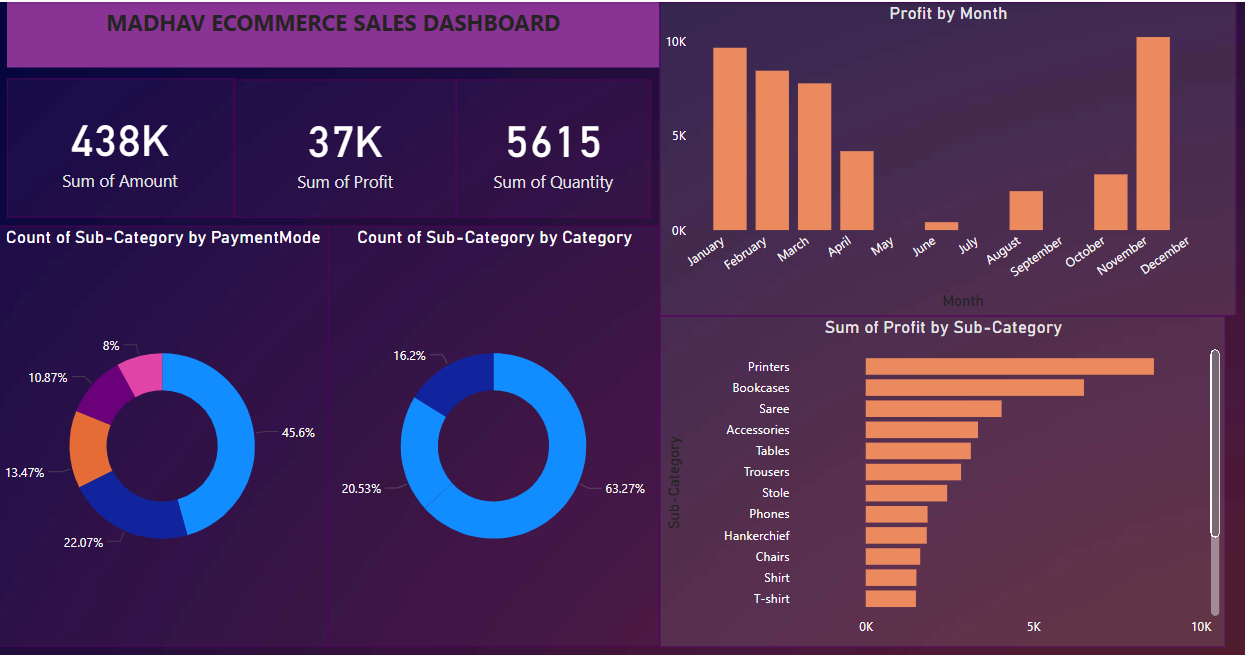

What the dashboard file says about the page in this screenshot:
{"tool":"powerbi","page":{"name":"Page 1","canvas":[1280,720],"ordinal":0},"visuals":[{"type":"textbox","box":[9.6,0,629.8,63.1],"z":0},{"type":"clusteredColumnChart","title":"Profit by Month","fields":{"Category":["Orders.Order Date.Variation.Date Hierarchy.Month"],"Y":["Sum(Details.Profit)"]},"box":[640,0,556.7,303.3],"z":1000},{"type":"barChart","fields":{"Category":["Details.Sub-Category"],"Y":["Sum(Details.Profit)"]},"box":[640,303.3,546.7,320],"z":2000},{"type":"donutChart","fields":{"Category":["Details.Category"],"Y":["CountNonNull(Details.Sub-Category)"]},"box":[320,215.6,320,252.2],"z":2001},{"type":"donutChart","fields":{"Category":["Details.PaymentMode"],"Y":["CountNonNull(Details.Sub-Category)"]},"box":[0,215.6,320,252.2],"z":2002},{"type":"card","fields":{"Values":["Sum(Details.Amount)"]},"box":[10,73.3,218.9,134.4],"z":2003},{"type":"card","fields":{"Values":["Sum(Details.Profit)"]},"box":[228.9,74.4,214.4,133.3],"z":2004},{"type":"card","fields":{"Values":["Sum(Details.Quantity)"]},"box":[443.3,74.4,188.9,133.3],"z":2005}]}

Visuals, with their boxes on the page's 1280x720 design canvas (x1, y1, x2, y2). These are canvas units, not pixel positions in the 1245x655 screenshot, which may show the page scaled, cropped or inside an application window:
textbox: BBox(10, 0, 639, 63)
"Profit by Month" clusteredColumnChart: BBox(640, 0, 1197, 303)
barChart - Details.Sub-Category x Sum(Details.Profit): BBox(640, 303, 1187, 623)
donutChart - Details.Category x CountNonNull(Details.Sub-Category): BBox(320, 216, 640, 468)
donutChart - Details.PaymentMode x CountNonNull(Details.Sub-Category): BBox(0, 216, 320, 468)
card - Sum(Details.Amount): BBox(10, 73, 229, 208)
card - Sum(Details.Profit): BBox(229, 74, 443, 208)
card - Sum(Details.Quantity): BBox(443, 74, 632, 208)
